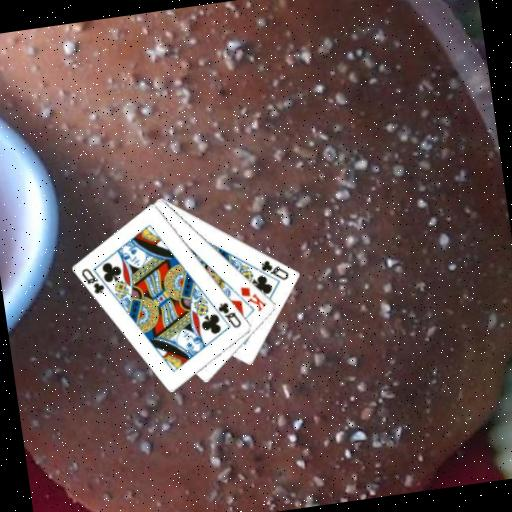KD: (237, 280, 269, 316)
QC: (214, 297, 244, 332), (78, 263, 108, 298), (257, 255, 291, 285)
